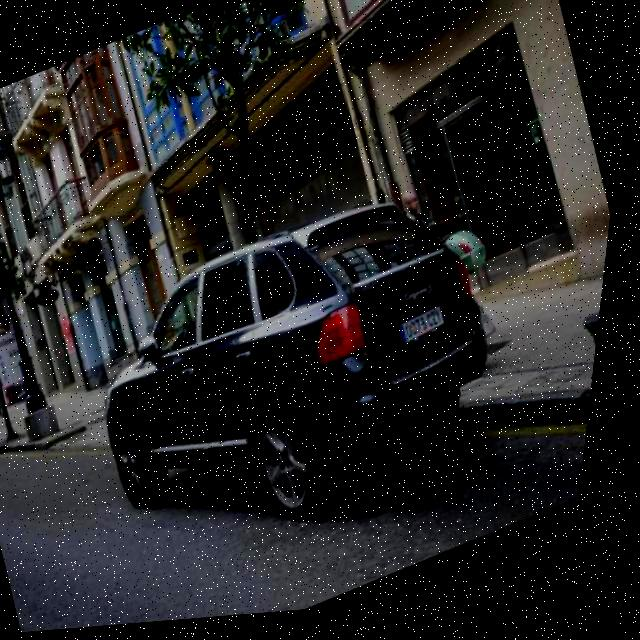license_plate: (404, 312, 456, 353)
